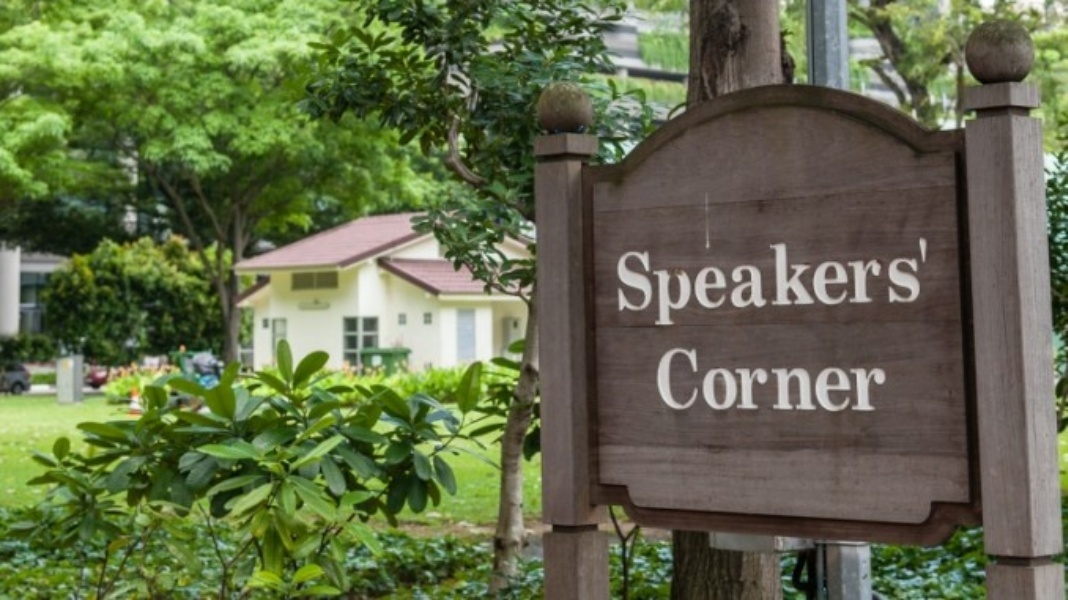text: (625, 234, 640, 328), (641, 234, 656, 328), (657, 234, 672, 328), (673, 234, 688, 328), (689, 234, 704, 328), (705, 234, 720, 328), (721, 234, 736, 328), (737, 234, 752, 328), (753, 234, 768, 328), (769, 234, 784, 328), (785, 234, 800, 328), (801, 234, 816, 328), (817, 234, 832, 328), (833, 234, 848, 328), (849, 234, 864, 328), (865, 234, 880, 328), (881, 234, 896, 328), (897, 234, 912, 328), (913, 234, 928, 328), (657, 344, 672, 413), (673, 344, 688, 413), (689, 344, 704, 413), (705, 344, 720, 413), (721, 344, 736, 413), (737, 344, 752, 413), (753, 344, 768, 413), (769, 344, 784, 413), (785, 344, 800, 413), (801, 344, 816, 413), (817, 344, 832, 413), (833, 344, 848, 413), (849, 344, 864, 413), (865, 344, 880, 413), (616, 234, 624, 328), (881, 344, 889, 413), (929, 234, 930, 328)
